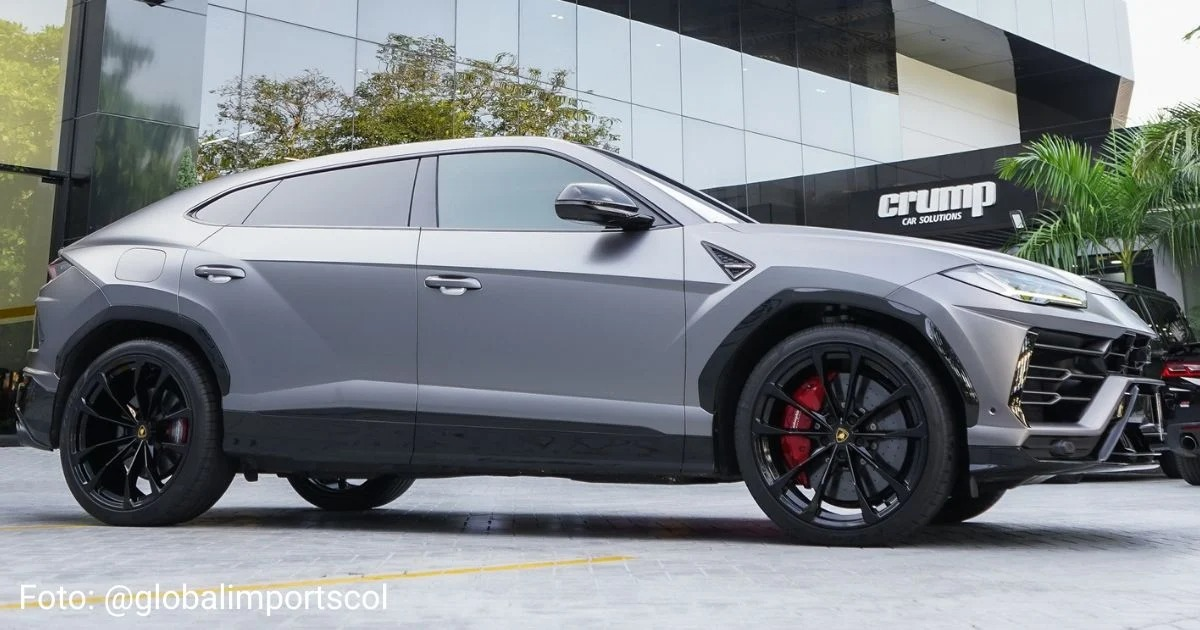car: (9, 104, 1182, 534)
